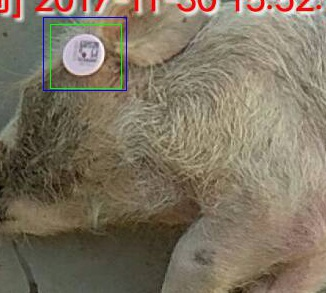text: (50, 24, 121, 88)
